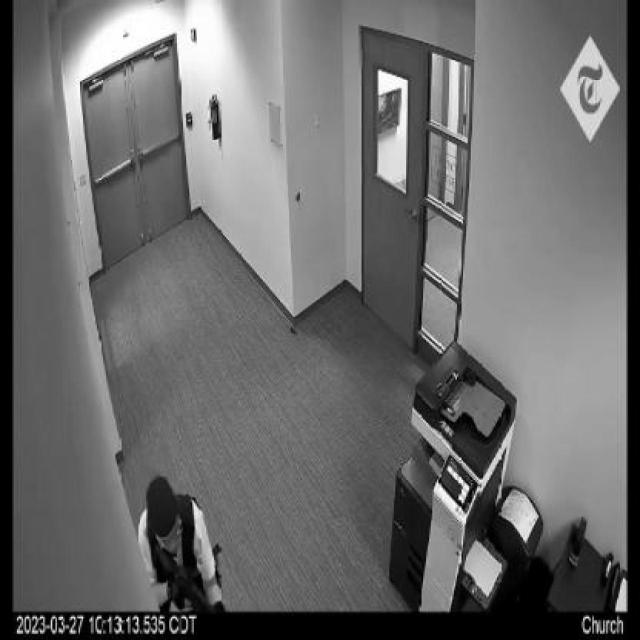weapon: (142, 533, 230, 639)
